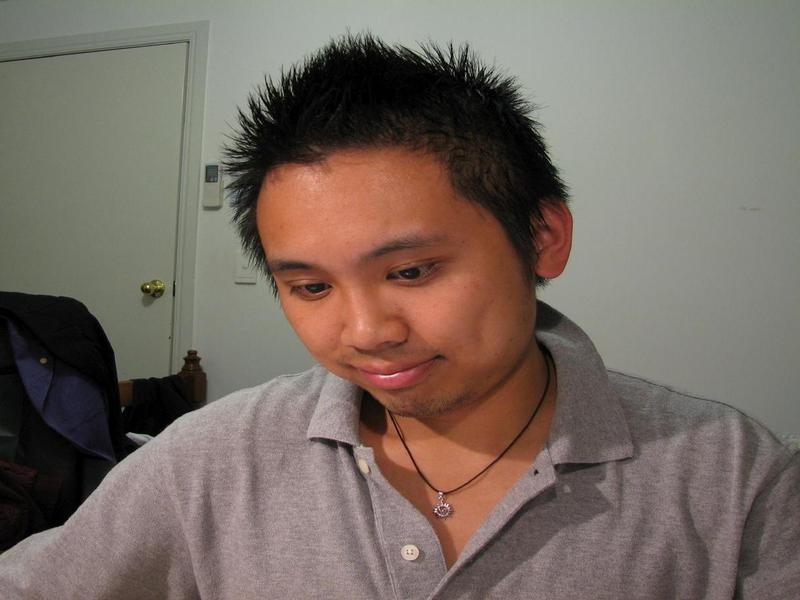person: (71, 41, 798, 598)
